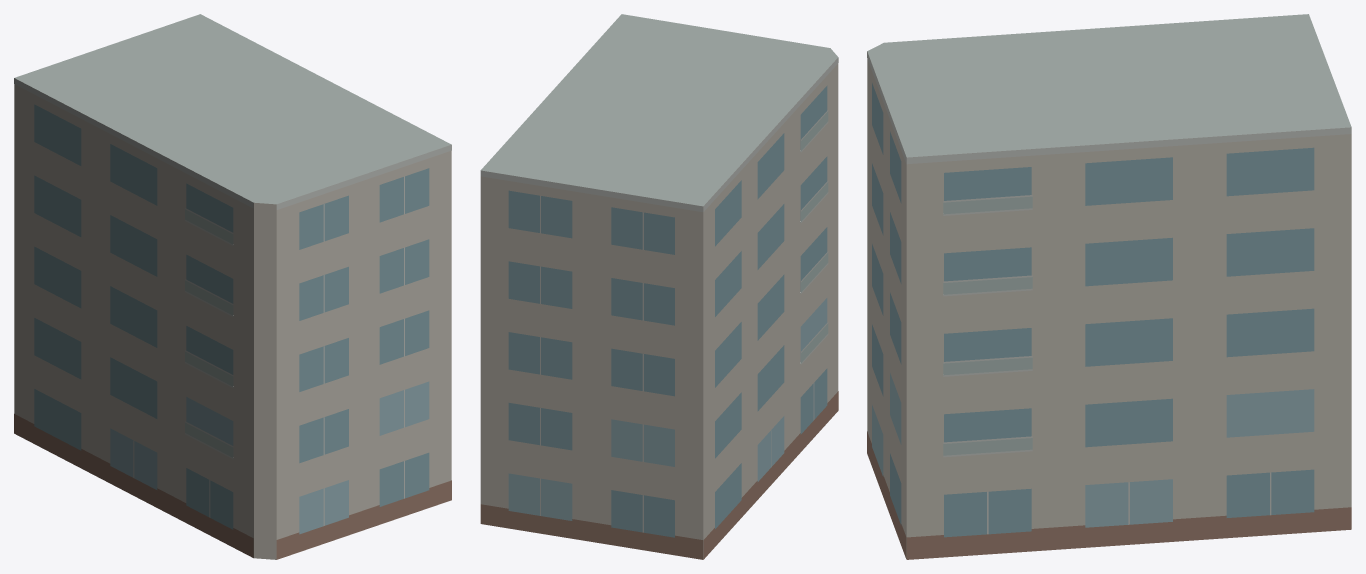
File: survey-upis-32901876.glb
3 views of the same model, side by side, from view 1: azimuth 30°, elevation 25°; view 2: azimuth 150°, elevation 25°; view 3: azimuth 270°, elevation 25° (orthographic). The views are drawn at different scales.
Parts seen in each view (by area): view 1: survey-upis-32901876.tmp; view 2: survey-upis-32901876.tmp; view 3: survey-upis-32901876.tmp.
Part boxes in pixels (x1,y1,x2,y2): survey-upis-32901876.tmp: [14, 14, 451, 559]; survey-upis-32901876.tmp: [480, 14, 838, 559]; survey-upis-32901876.tmp: [867, 14, 1351, 559].
Size of the model in its own units: 11.26 by 14.7 by 16.05.
